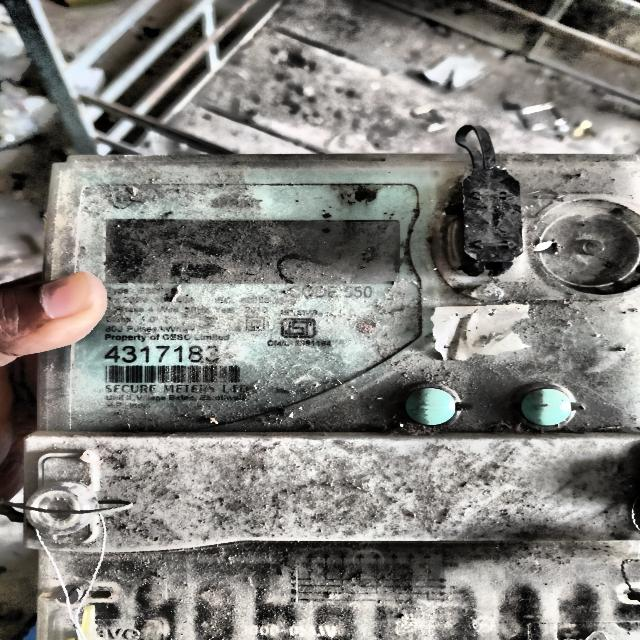Digital: (13, 149, 640, 551)
Reading: (107, 222, 388, 280)
Serial No.: (102, 344, 225, 365)
